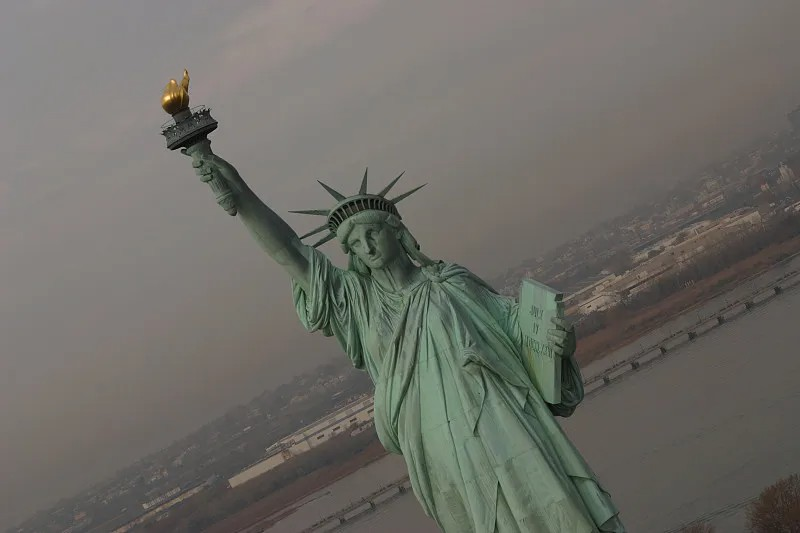SL: (160, 68, 626, 533)
